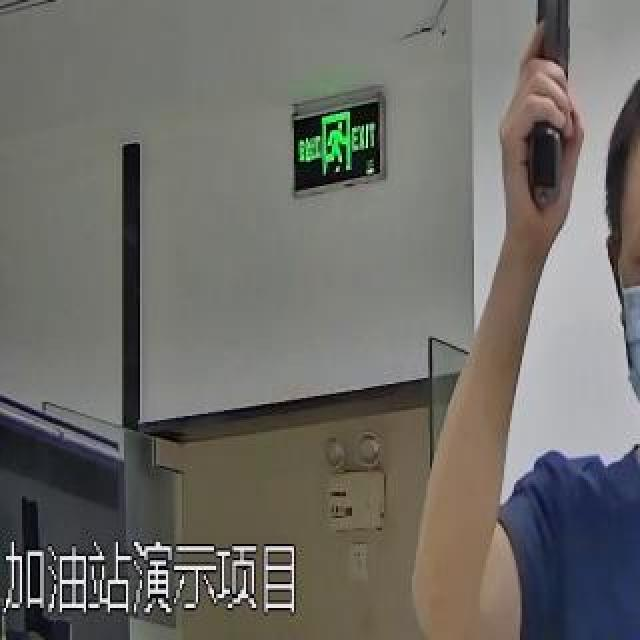Guns: (488, 0, 634, 236)
